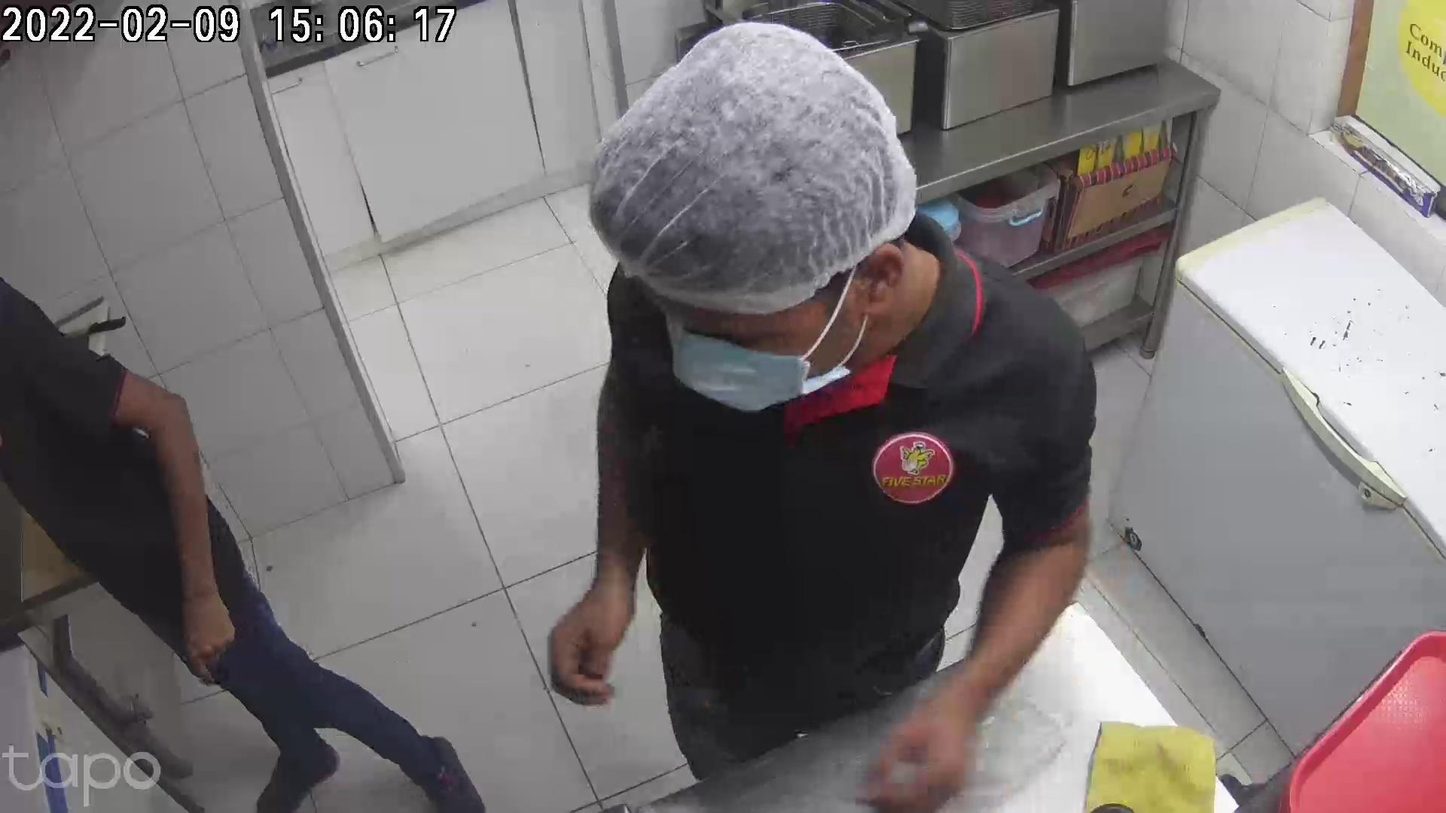no_gloves: (177, 567, 228, 677)
